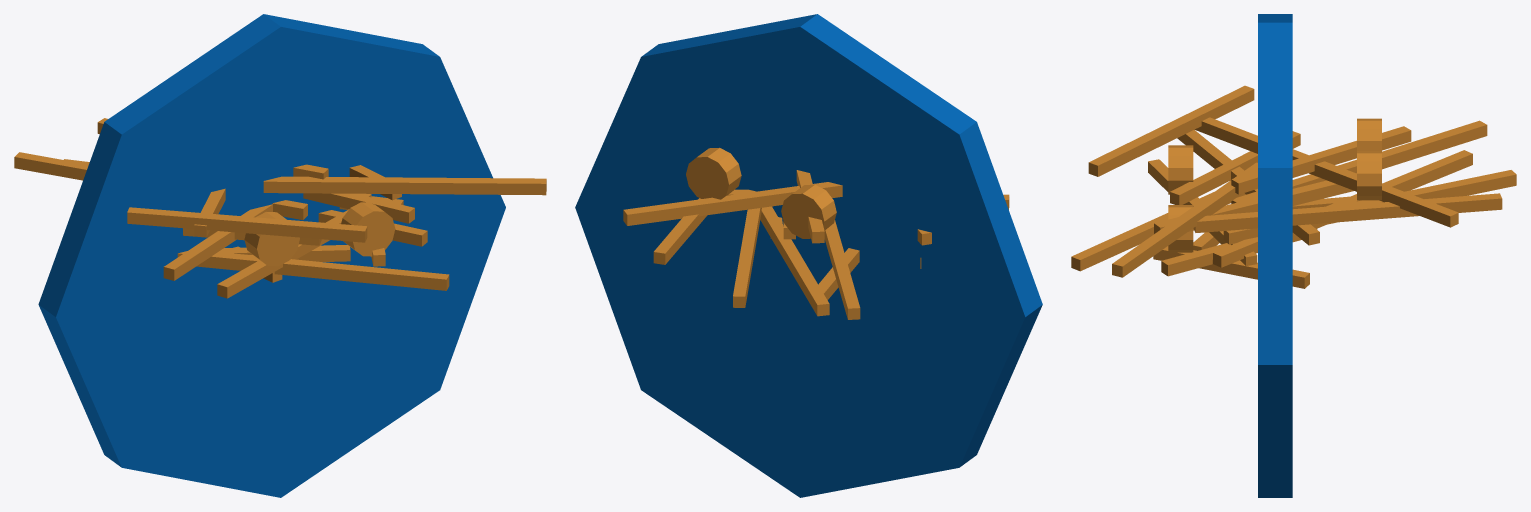
The model's file is waffle_fries_nest.glb.
The picture shows the model from 3 angles, left to right: view 1: azimuth 30°, elevation 25°; view 2: azimuth 150°, elevation 25°; view 3: azimuth 270°, elevation 25°; orthographic projection.
Visible parts, largest first — view 1: world; view 2: world; view 3: world.
Part boxes in pixels (box(x1,y1,x2,y2)): world: box(14, 14, 546, 497); world: box(575, 14, 1042, 497); world: box(1071, 14, 1516, 497).
Size of the model in its own units: 1.04 by 1.04 by 0.8995.
